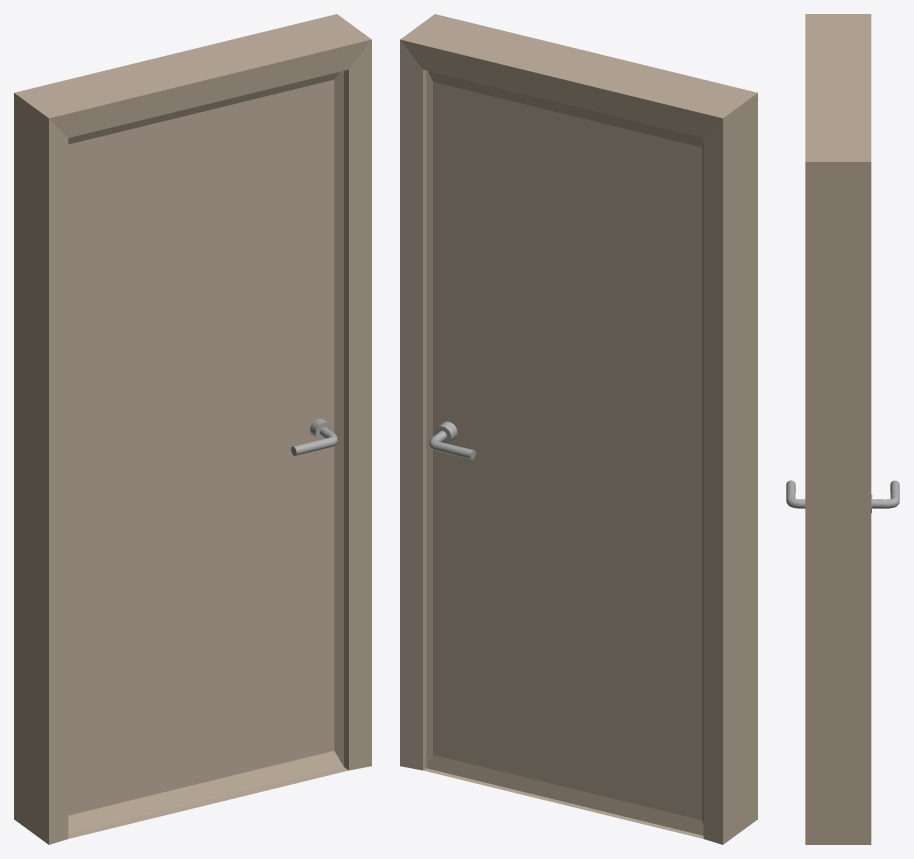
Rendered from door.fbx.
3 renders of one model, left to right at view 1: azimuth 30°, elevation 25°; view 2: azimuth 150°, elevation 25°; view 3: azimuth 270°, elevation 25°, orthographic. The views are drawn at different scales.
Visible parts, largest first — view 1: Cylinder.006; view 2: Cylinder.006; view 3: Cylinder.006.
Part boxes in pixels (x1,y1,x2,y2): Cylinder.006: (14,14,371,844); Cylinder.006: (400,14,757,844); Cylinder.006: (786,14,899,844).
Size of the model in its own units: 101 by 217 by 32.64.
